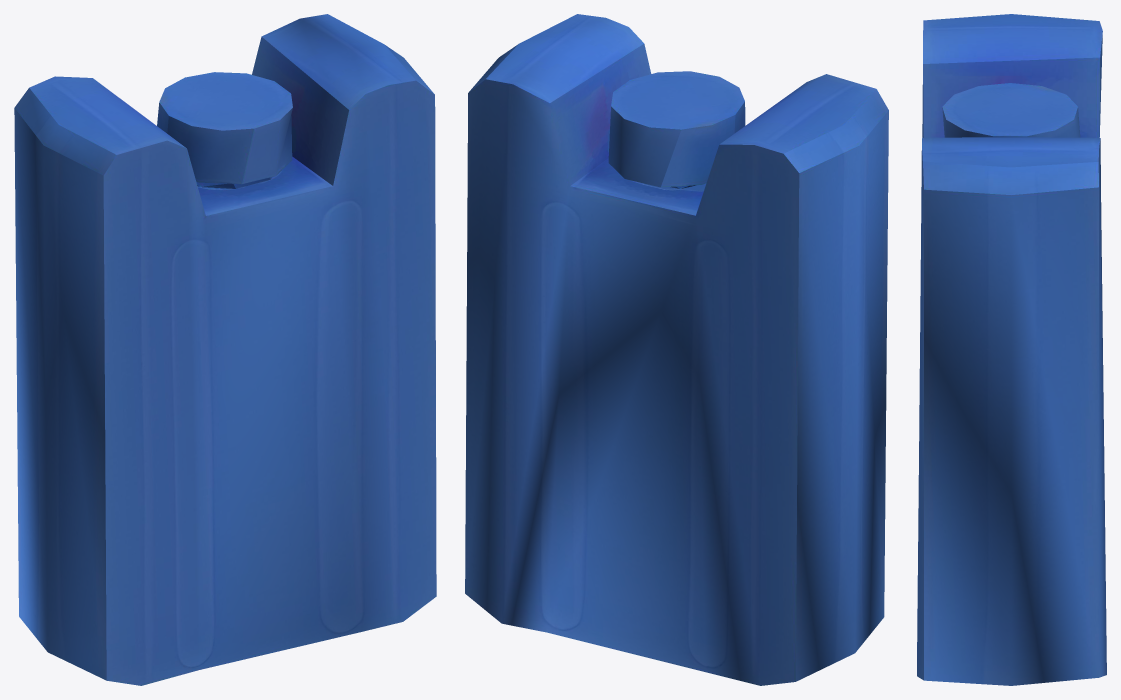
3 views of the same model, side by side, from view 1: azimuth 30°, elevation 25°; view 2: azimuth 150°, elevation 25°; view 3: azimuth 270°, elevation 25° (orthographic). The views are drawn at different scales.
Visible parts, largest first — view 1: 冰盒; view 2: 冰盒; view 3: 冰盒.
Part boxes in pixels (box(x1,y1,x2,y2)): 冰盒: box(14, 14, 436, 685); 冰盒: box(465, 14, 888, 685); 冰盒: box(917, 14, 1106, 685).
Bounding box in the file's own units: 0.0913 × 0.1299 × 0.0424.
1 material, 1 textured.
